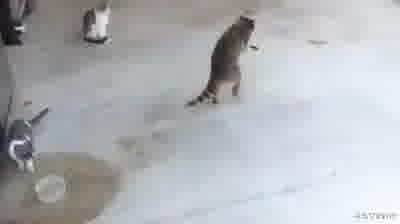raccoon: (186, 14, 261, 109)
